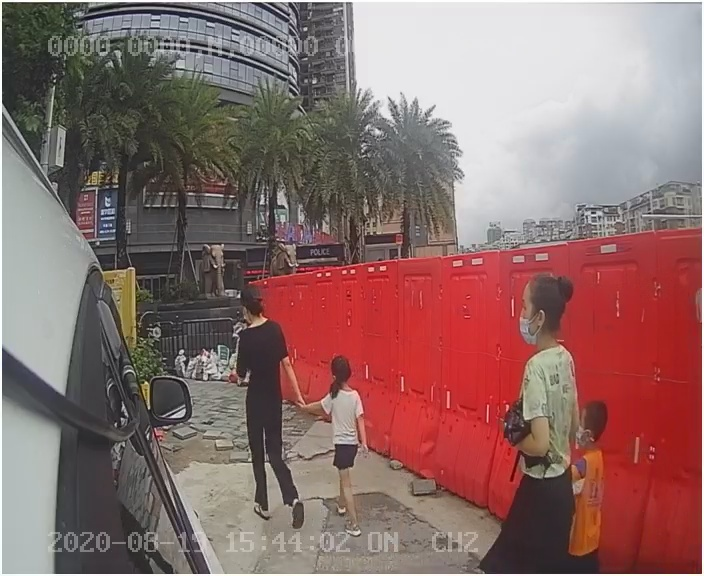person: (472, 270, 592, 544), (217, 287, 314, 527), (299, 350, 392, 536)
